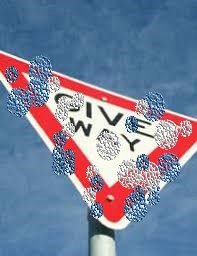giveway: (25, 98, 197, 206), (27, 86, 175, 160), (75, 89, 156, 218)
